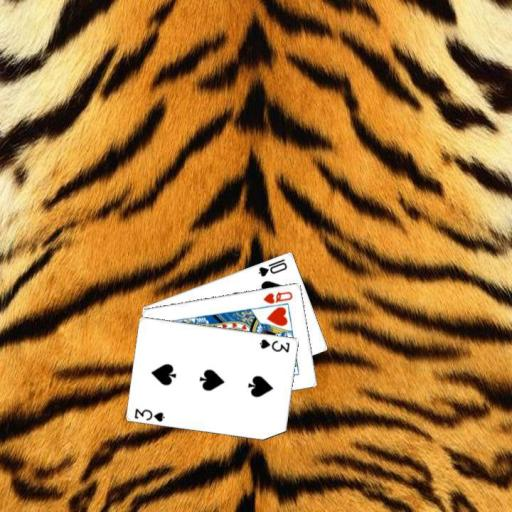10S: (255, 255, 289, 278)
3S: (257, 336, 292, 354), (132, 405, 167, 423)
QH: (261, 288, 295, 305)
